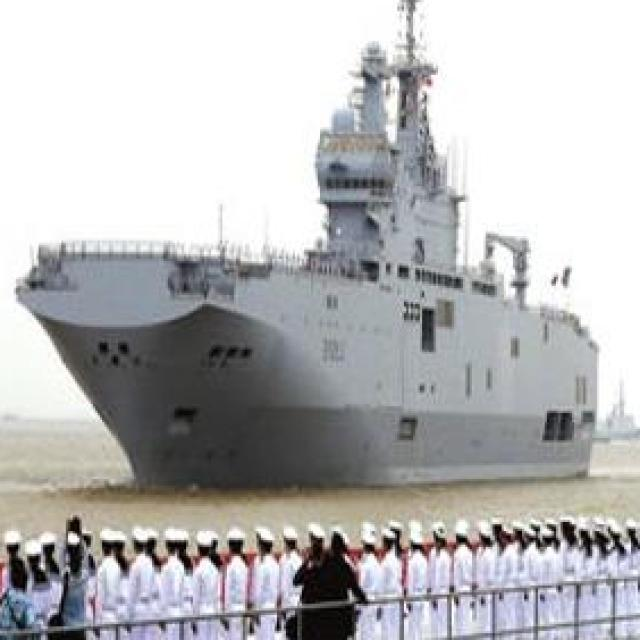navalvessels: (45, 28, 608, 478)
